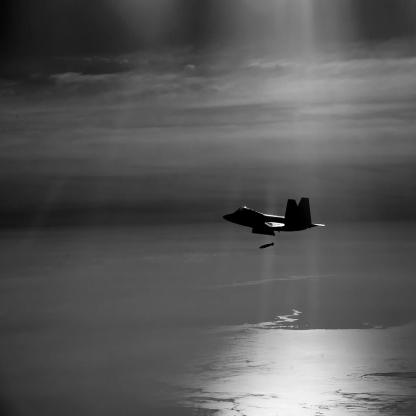F22: (223, 198, 327, 237)
